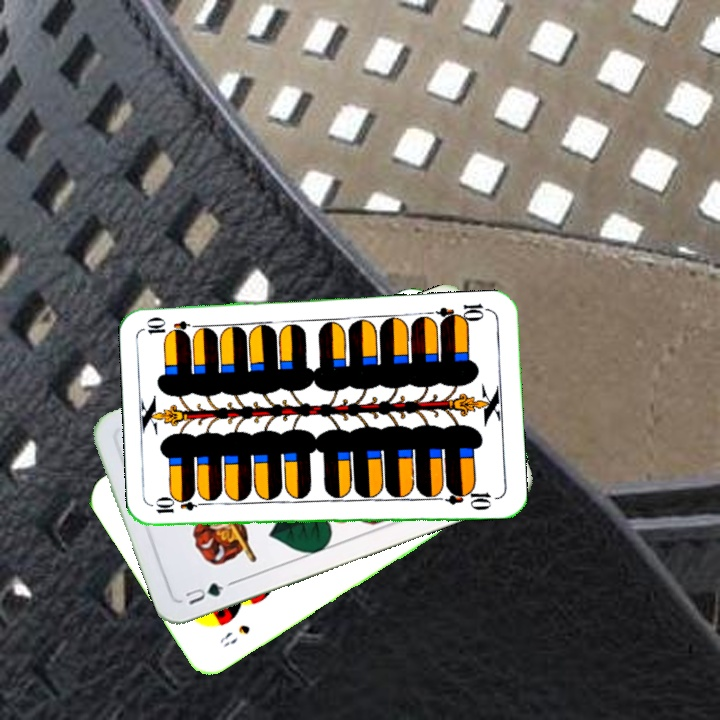E10: (433, 299, 492, 327), (151, 496, 211, 516)
GU: (181, 577, 236, 608)
S8: (215, 620, 253, 650)
